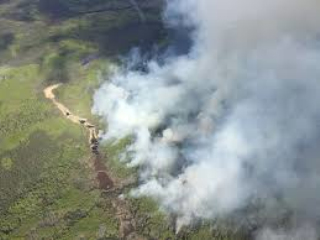smoke: (100, 55, 293, 228)
